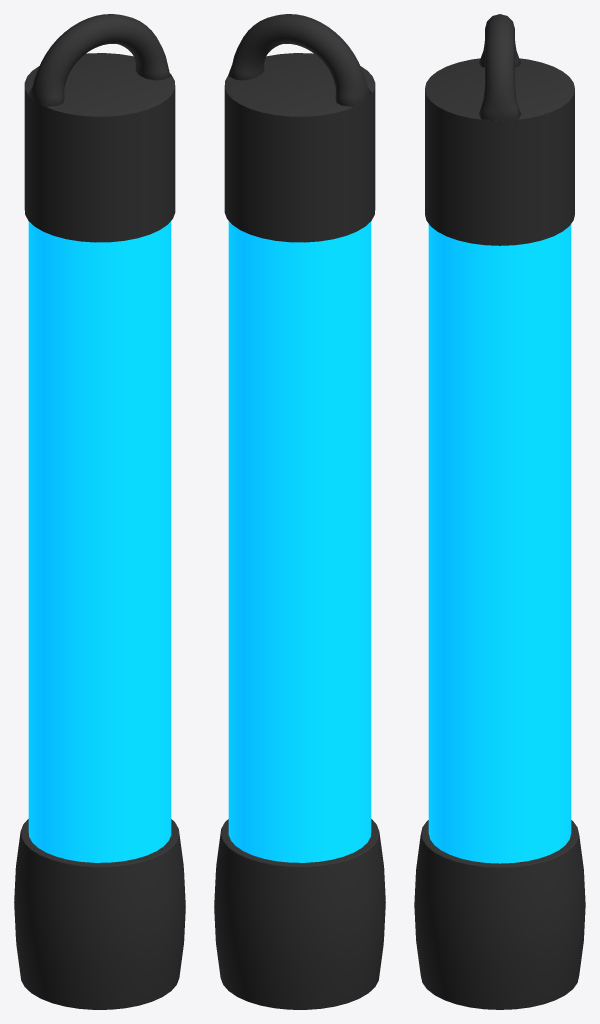
File: glowstick.glb
3 renders of one model, left to right at view 1: azimuth 30°, elevation 25°; view 2: azimuth 150°, elevation 25°; view 3: azimuth 270°, elevation 25°, orthographic.
Parts seen in each view (by area): view 1: Cylinder.001, Cylinder, Cylinder.002, Torus; view 2: Cylinder.001, Cylinder, Cylinder.002, Torus; view 3: Cylinder.001, Cylinder, Cylinder.002, Torus.
Boxes of the visible parts, box(x1,y1,x2,y2) form: Cylinder.001: box(28, 221, 171, 862); Cylinder: box(14, 819, 185, 1009); Cylinder.002: box(24, 53, 175, 242); Torus: box(28, 14, 171, 106); Cylinder.001: box(228, 221, 371, 862); Cylinder: box(214, 819, 385, 1009); Cylinder.002: box(224, 53, 375, 242); Torus: box(228, 14, 371, 106); Cylinder.001: box(428, 224, 571, 863); Cylinder: box(414, 820, 585, 1009); Cylinder.002: box(425, 58, 574, 245); Torus: box(478, 14, 521, 120).
Size of the model in its own units: 217 by 1333 by 217.
